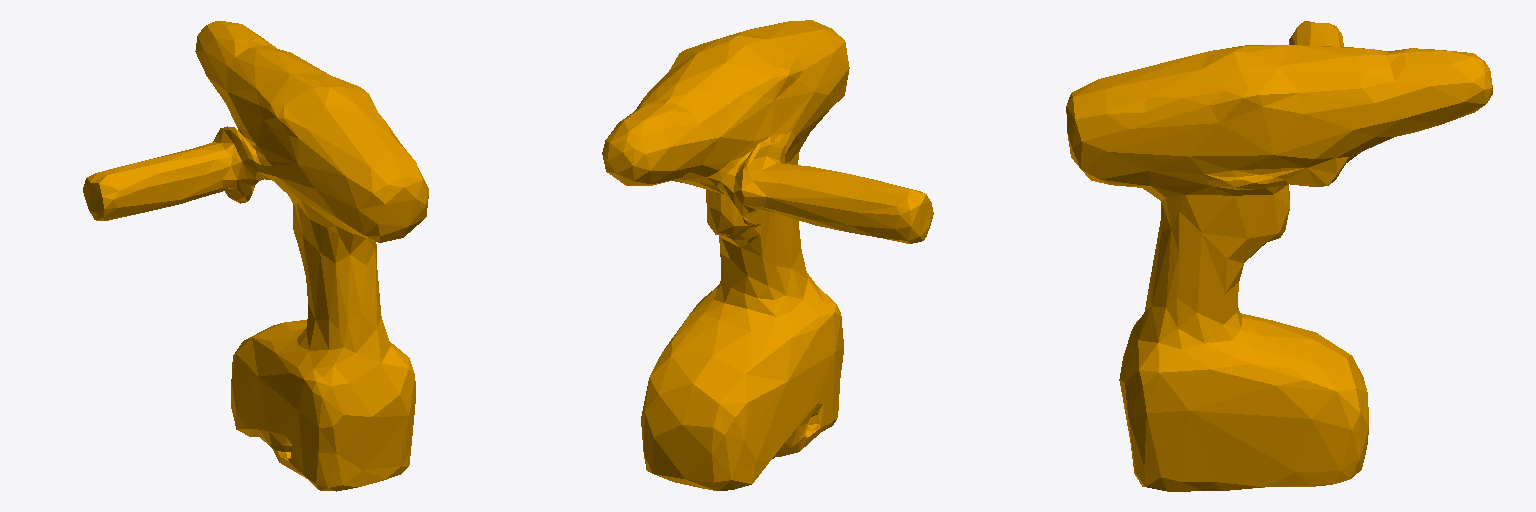
robot.urdf — simple_box:
<robot name="simple_box">
  <link name="my_box">
    <inertial>
      <origin xyz="0 0 0.2" /> 
      <mass value="0.1" />
      <inertia  ixx="0.001" ixy="0.0"  ixz="0.0"  iyy="0.001"  iyz="0.0"  izz="0.001" />
    </inertial>
    <visual>
      <origin xyz="0 0 0"/>
      <geometry>
        <mesh filename="package://gazebo_worlds/Media/models/14_4v_cordless_drill.dae" scale="0.001 0.001 0.001" />
      </geometry>
    </visual>
    <collision>
      <origin xyz="0 0 0"/>
      <geometry>
        <mesh filename="package://gazebo_worlds/Media/models/14_4v_cordless_drill.dae" scale="0.001 0.001 0.001" />
      </geometry>
    </collision>
  </link>
  <gazebo reference="my_box">
  </gazebo>
</robot>

--- Render facts (derived) ---
The picture shows the robot from 3 angles, left to right: view 1: azimuth 30°, elevation 25°; view 2: azimuth 150°, elevation 25°; view 3: azimuth 270°, elevation 25°; orthographic projection.
Model simple_box with 1 links and 0 joints (none), rooted at my_box, posed every joint at zero.
Links seen in each view (by area): view 1: my_box; view 2: my_box; view 3: my_box.
Boxes of the visible links, x1,y1,x2,y2 form: my_box: [83, 21, 428, 491]; my_box: [602, 20, 933, 490]; my_box: [1066, 21, 1492, 491].
Size in the robot's own frame: 0.1814 by 0.232 by 0.2546 metres.
1 mesh visuals loaded from 1 distinct referenced files (1 Collada DAE).